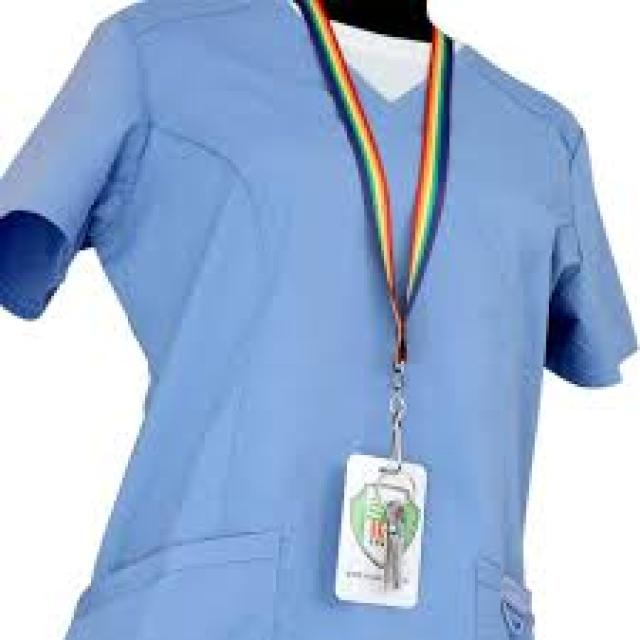id_card: (301, 11, 452, 616)
